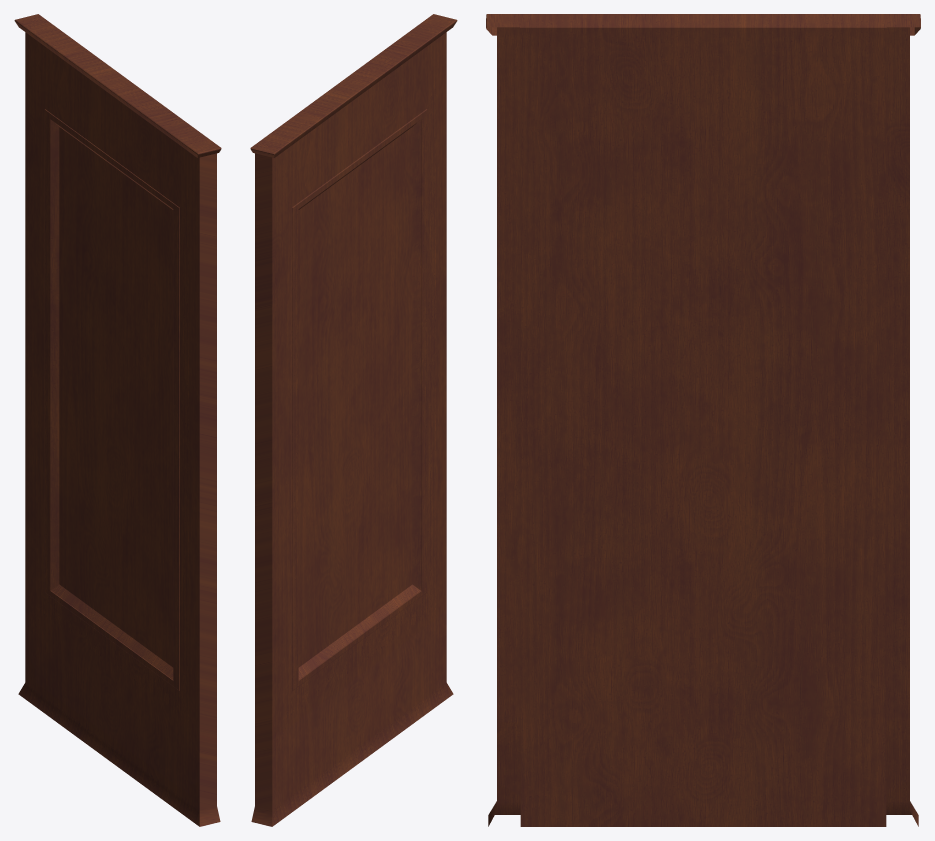
File: SM_VarnishWall01F.fbx
3 views of the same model, side by side, from view 1: azimuth 30°, elevation 25°; view 2: azimuth 150°, elevation 25°; view 3: azimuth 270°, elevation 25° (orthographic). The views are drawn at different scales.
Parts seen in each view (by area): view 1: SM_VarnishWall01F; view 2: SM_VarnishWall01F; view 3: SM_VarnishWall01F.
Part boxes in pixels (x1,y1,x2,y2): SM_VarnishWall01F: (14, 14, 221, 826); SM_VarnishWall01F: (250, 14, 457, 826); SM_VarnishWall01F: (486, 14, 920, 826).
Size of the model in its own units: 5.43 by 72.93 by 148.
1 material, 1 textured.
